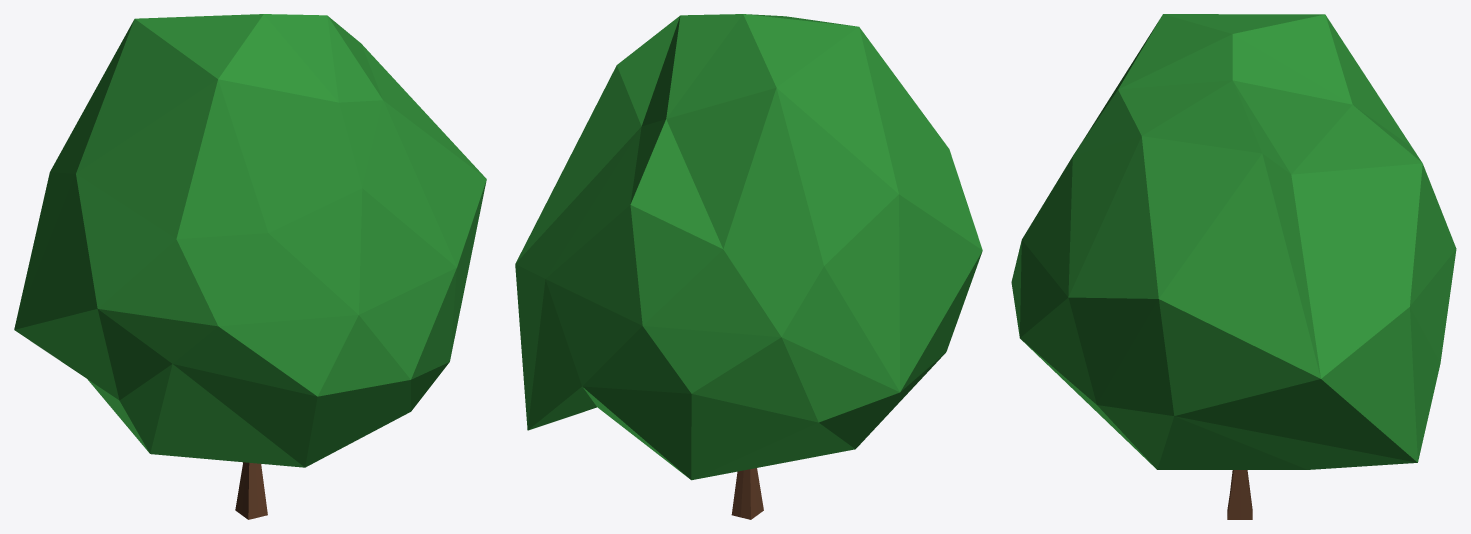
The model's file is Tree_17_Green.fbx.
The picture shows the model from 3 angles, left to right: view 1: azimuth 30°, elevation 25°; view 2: azimuth 150°, elevation 25°; view 3: azimuth 270°, elevation 25°; orthographic projection. The views are drawn at different scales.
Visible parts, largest first — view 1: Tree_17_Green_Part_1, Tree_17_Green_Part_2; view 2: Tree_17_Green_Part_1, Tree_17_Green_Part_2; view 3: Tree_17_Green_Part_1, Tree_17_Green_Part_2.
Part boxes in pixels (x1=…): Tree_17_Green_Part_1: x1=14, y1=14, x2=486, y2=467; Tree_17_Green_Part_2: x1=235, y1=462, x2=267, y2=519; Tree_17_Green_Part_1: x1=515, y1=14, x2=982, y2=480; Tree_17_Green_Part_2: x1=731, y1=468, x2=763, y2=519; Tree_17_Green_Part_1: x1=1011, y1=14, x2=1456, y2=469; Tree_17_Green_Part_2: x1=1227, y1=470, x2=1252, y2=519.
Size of the model in its own units: 639 by 784 by 651.
